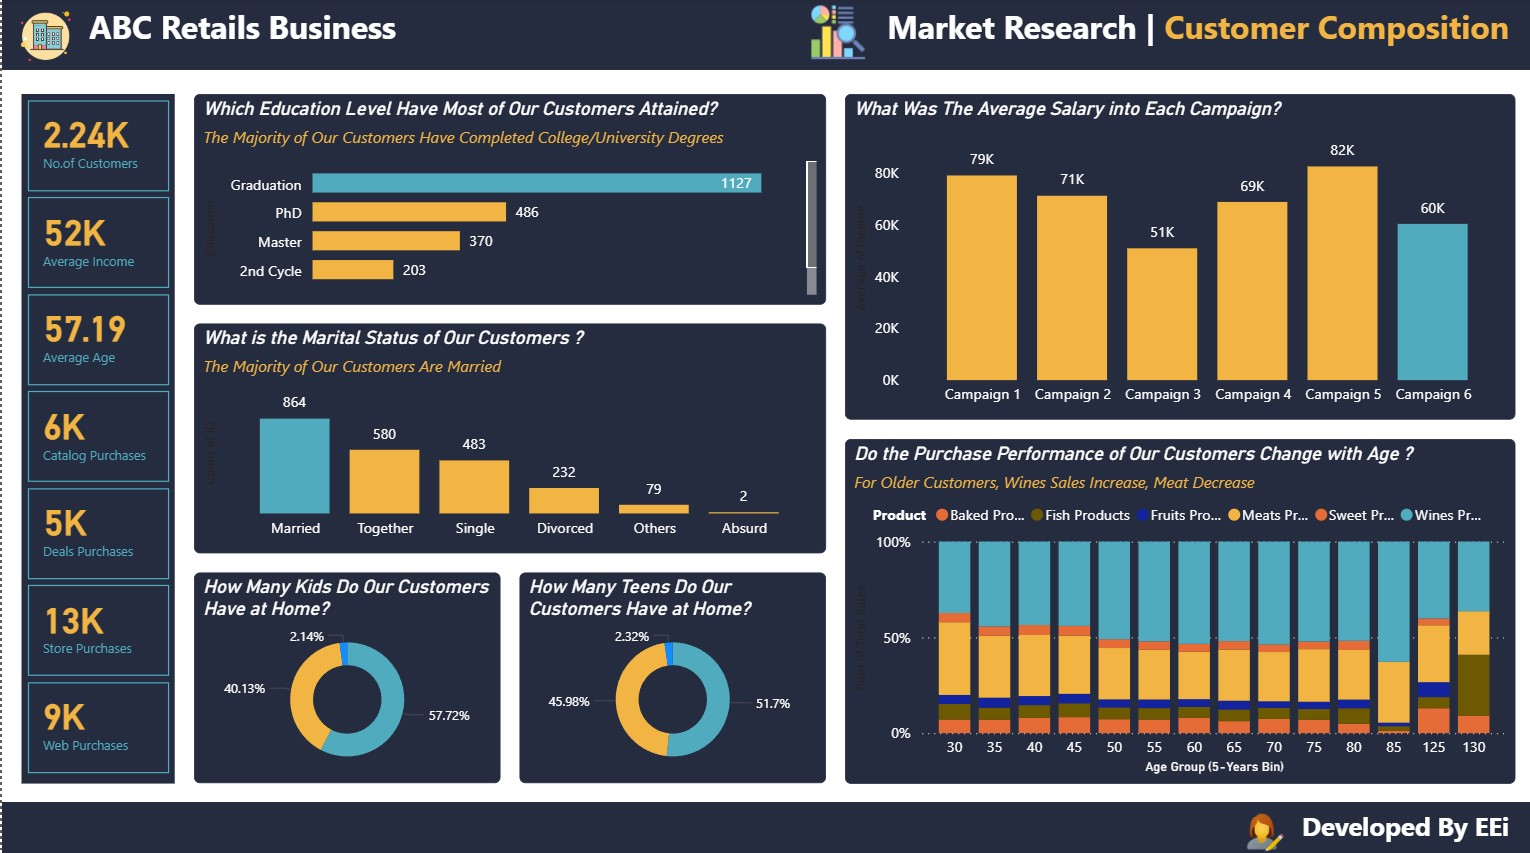

What the dashboard file says about the page in this screenshot:
{"tool":"powerbi","page":{"name":"Customer Composition","canvas":[1280,720],"ordinal":1},"visuals":[{"type":"shape","box":[0,0,1280,60],"z":0},{"type":"shape","box":[0,672,1280,48],"z":1000},{"type":"textbox","box":[688,0,576,64],"z":2000},{"type":"textbox","box":[688,672,576,48],"z":3000},{"type":"clusteredBarChart","title":"Which Education Level Have Most of Our Customers Attained?","fields":{"Category":["Market_Research.Education"],"Y":["CountNonNull(Market_Research.ID)"]},"box":[160,80,528,176],"z":4000},{"type":"clusteredColumnChart","title":"What is the Marital Status of Our Customers ?","fields":{"Category":["Market_Research.Marital_Status"],"Y":["CountNonNull(Market_Research.ID)"]},"box":[160,272,528,192],"z":5000},{"type":"donutChart","title":"How Many Kids Do Our Customers Have at Home?","fields":{"Category":["Market_Research.Kidhome"],"Y":["CountNonNull(Market_Research.ID)"]},"box":[160,480,256,176],"z":6000},{"type":"donutChart","title":"How Many Teens Do Our Customers Have at Home?","fields":{"Category":["Market_Research.Teenhome"],"Y":["CountNonNull(Market_Research.ID)"]},"box":[432,480,256,176],"z":7000},{"type":"hundredPercentStackedColumnChart","title":"Do the Purchase Performance of Our Customers Change with Age ?","fields":{"Y":["Sum(Product.Total Sales)"],"Series":["Product.Product"],"Category":["Market_Research.Age_Group"]},"box":[704,368,560,288],"z":8000},{"type":"cardVisual","fields":{"Data":["CountNonNull(Market_Research.ID)","Avg(Market_Research. Income )","Avg(Market_Research.Age)","Sum(Market_Research.Purchases Catalog)","Sum(Market_Research.Purchases Deals)","Sum(Market_Research.Purchases Store)","Sum(Market_Research.Purchases Web)"]},"box":[16,80,128,576],"z":9000},{"type":"clusteredColumnChart","title":"What Was The Average Salary into Each Campaign?","fields":{"Category":["Campaign.Campaign"],"Y":["Avg(Market_Research. Income )"]},"box":[704,80,560,272],"z":10000},{"type":"image","box":[658,0,81.8,57.1],"z":11000},{"type":"image","box":[1029.1,672,46.7,48],"z":12000},{"type":"textbox","box":[67.5,0,332.2,57.1],"z":13000},{"type":"image","box":[2.6,0,67.5,63.6],"z":14000}]}

Visuals, with their boxes in screenshot pixels (x1, y1, x2, y2), scaled from the page's 1280x720 canvas onto the 1530x853 screenshot:
shape: box=[0, 0, 1529, 71]
shape: box=[0, 796, 1529, 852]
textbox: box=[822, 0, 1511, 76]
textbox: box=[822, 796, 1511, 852]
"Which Education Level Have Most of Our Customers Attained?" clusteredBarChart: box=[191, 95, 822, 303]
"What is the Marital Status of Our Customers ?" clusteredColumnChart: box=[191, 322, 822, 550]
"How Many Kids Do Our Customers Have at Home?" donutChart: box=[191, 569, 497, 777]
"How Many Teens Do Our Customers Have at Home?" donutChart: box=[516, 569, 822, 777]
"Do the Purchase Performance of Our Customers Change with Age ?" hundredPercentStackedColumnChart: box=[842, 436, 1511, 777]
cardVisual - CountNonNull(Market_Research.ID) x Avg(Market_Research. Income ): box=[19, 95, 172, 777]
"What Was The Average Salary into Each Campaign?" clusteredColumnChart: box=[842, 95, 1511, 417]
image: box=[787, 0, 884, 68]
image: box=[1230, 796, 1286, 852]
textbox: box=[81, 0, 478, 68]
image: box=[3, 0, 84, 75]
